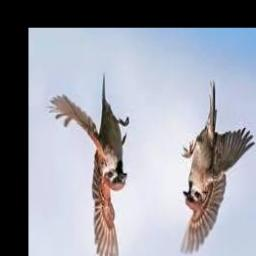Sparrow: (47, 75, 130, 256), (180, 79, 256, 255)
